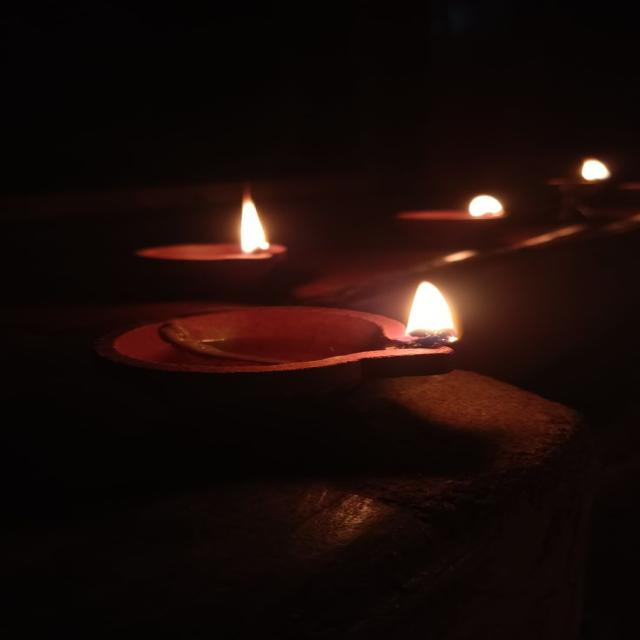fire: (403, 280, 457, 343), (238, 193, 271, 254)
